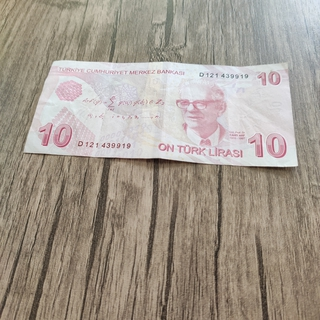10TLBack: (21, 58, 298, 168)
